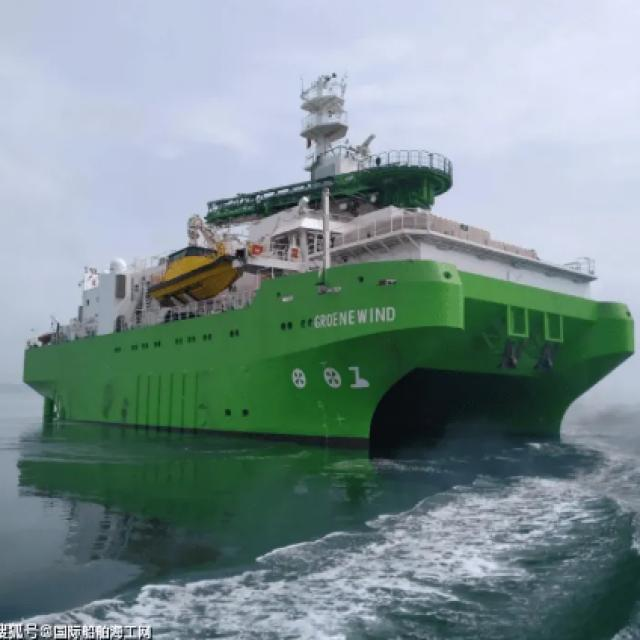houseboat: (24, 57, 626, 473)
